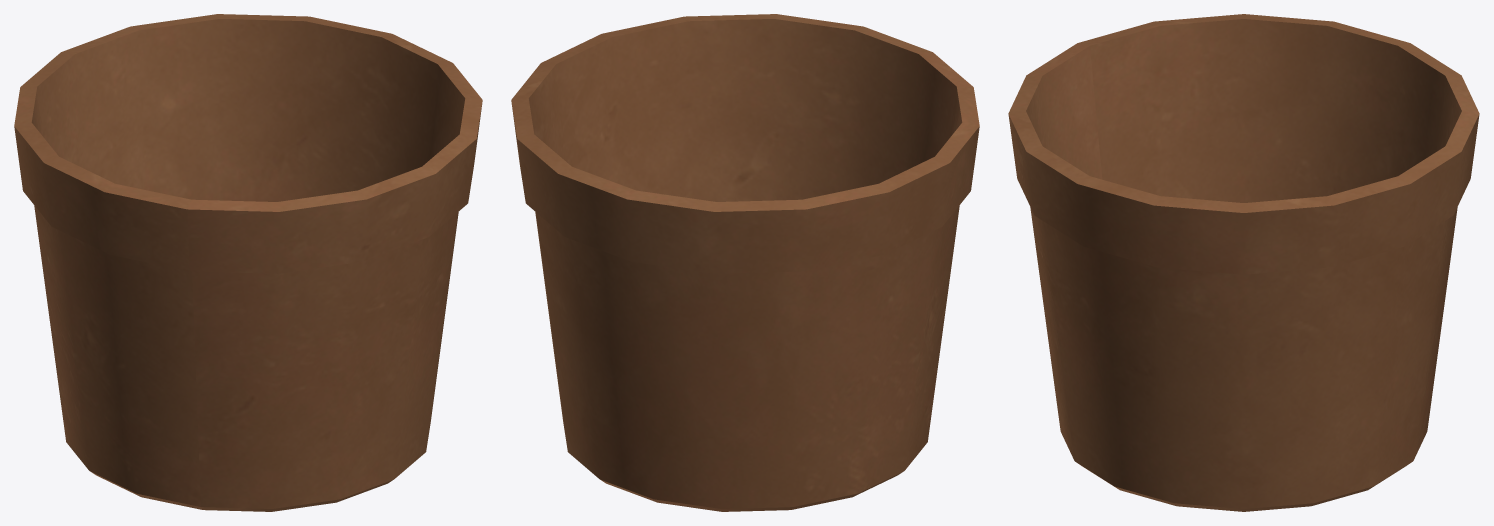
Rendered from Vase.fbx.
3 views of the same model, side by side, from view 1: azimuth 30°, elevation 25°; view 2: azimuth 150°, elevation 25°; view 3: azimuth 270°, elevation 25° (orthographic).
Visible parts, largest first — view 1: Vase; view 2: Vase; view 3: Vase.
Part boxes in pixels (left/top/right/bottom): Vase: left=14, top=14, right=482, bottom=511; Vase: left=511, top=14, right=979, bottom=511; Vase: left=1008, top=14, right=1479, bottom=511.
Size of the model in its own units: 10.42 by 7.97 by 10.42.
